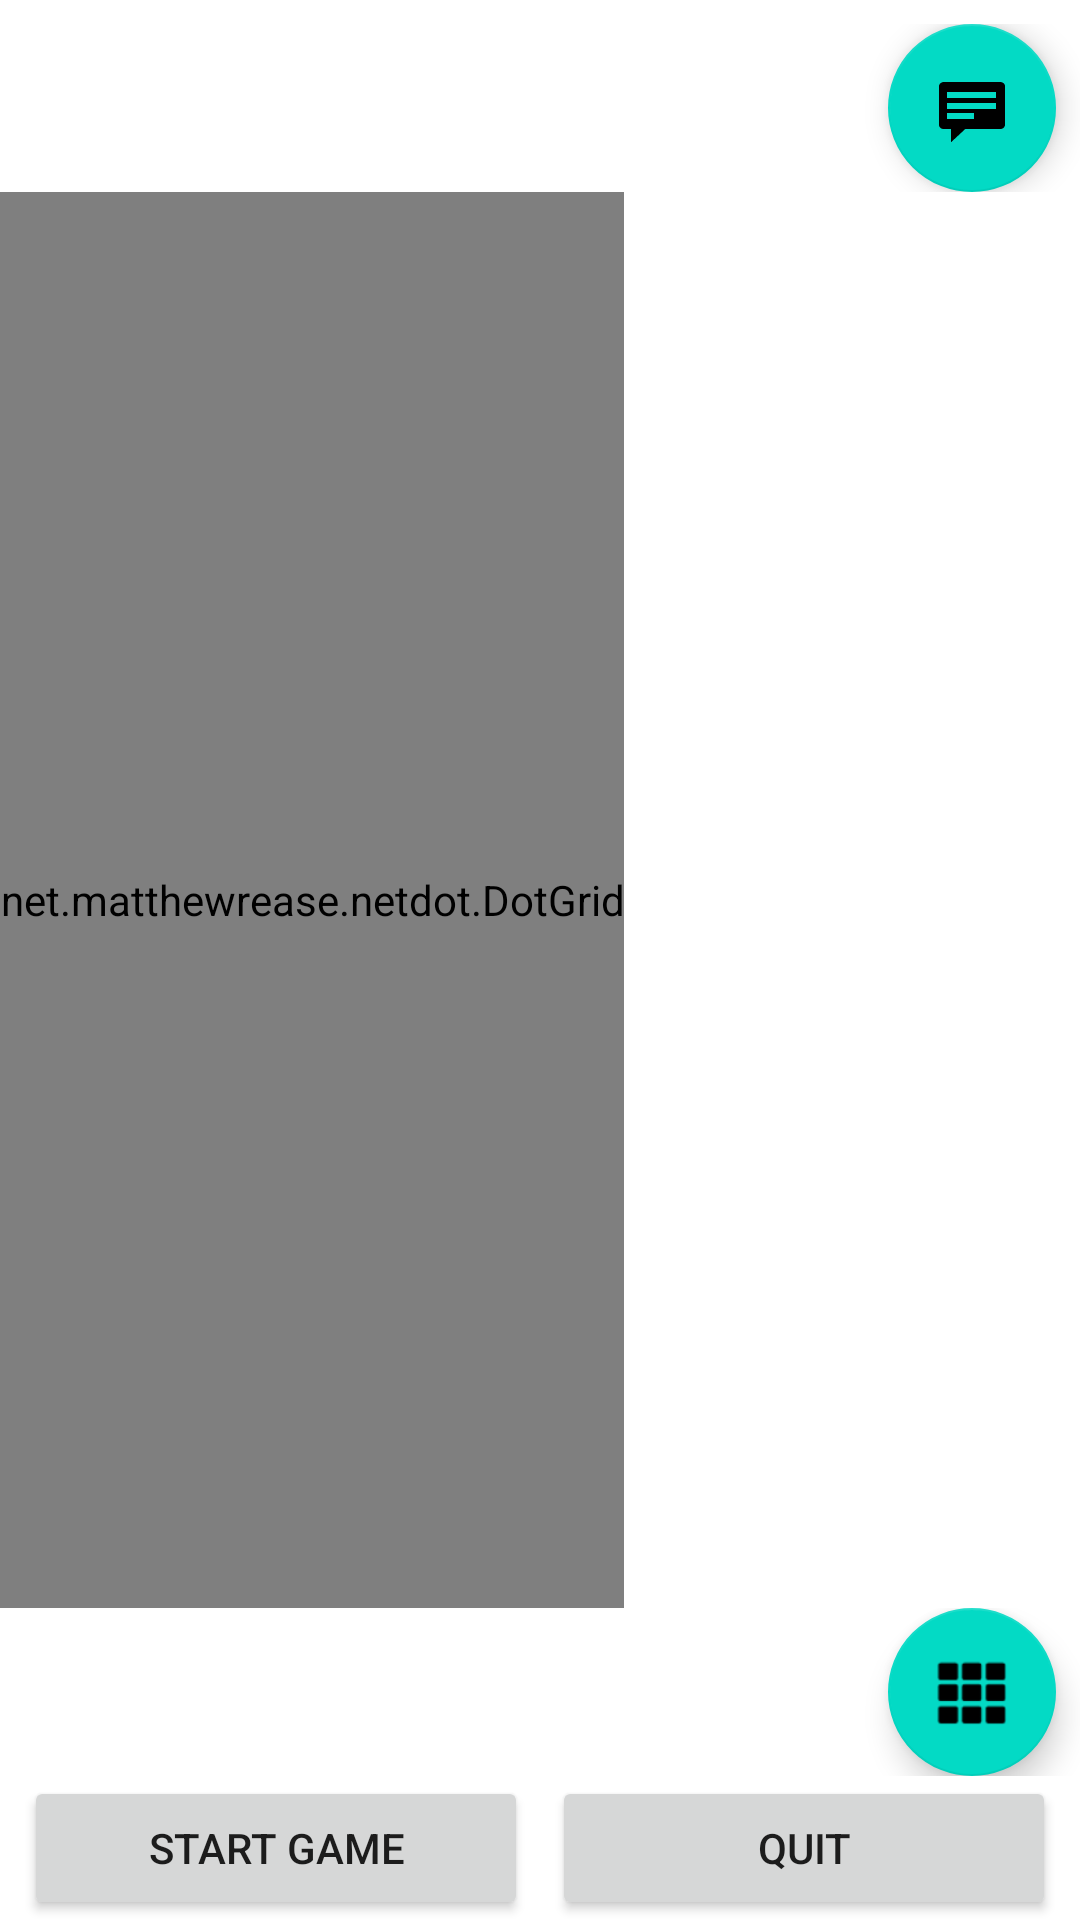

Locate icon controls on the screen. Image size 1080w x 1920h, boxes as (x1, y1, x2, y2).
Open chat screen: (888, 24, 1056, 192)
